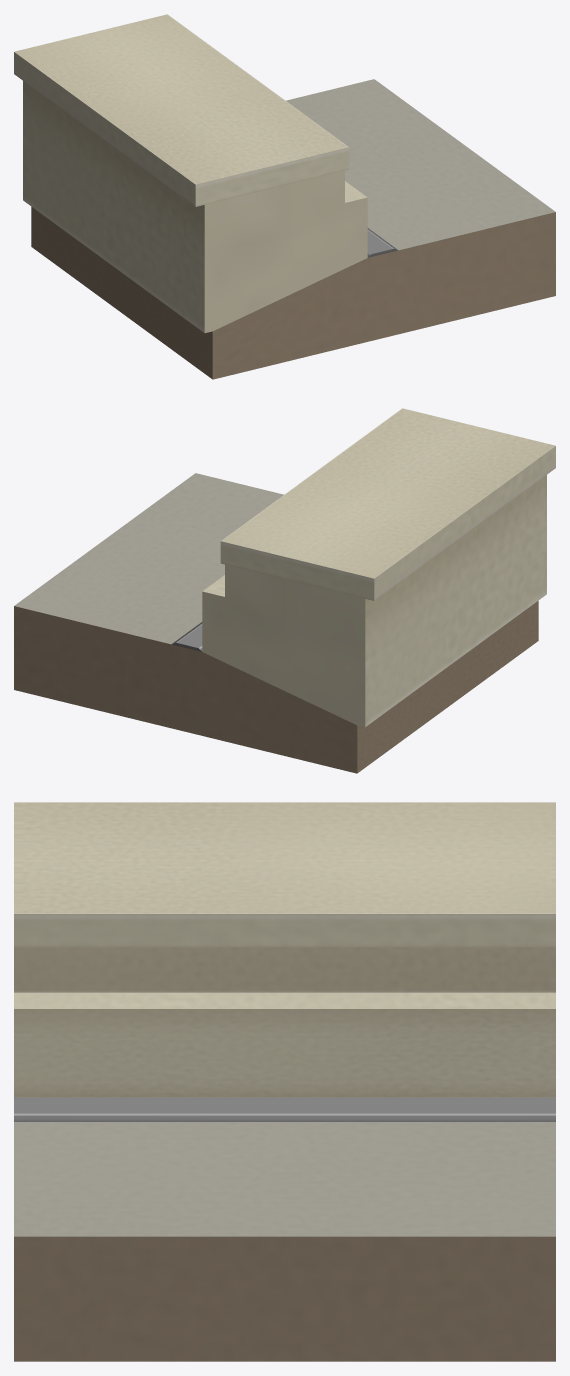
Rendered from set_roof_outside_b02.fbx.
3 views of the same model, one above another, from view 1: azimuth 30°, elevation 25°; view 2: azimuth 150°, elevation 25°; view 3: azimuth 270°, elevation 25° (orthographic). The views are drawn at different scales.
Parts seen in each view (by area): view 1: set_roof_outside_b02; view 2: set_roof_outside_b02; view 3: set_roof_outside_b02.
Part boxes in pixels (x1,y1,x2,y2): set_roof_outside_b02: [14, 14, 555, 379]; set_roof_outside_b02: [14, 408, 555, 773]; set_roof_outside_b02: [14, 802, 555, 1361].
Size of the model in its own units: 229 by 121 by 200.
